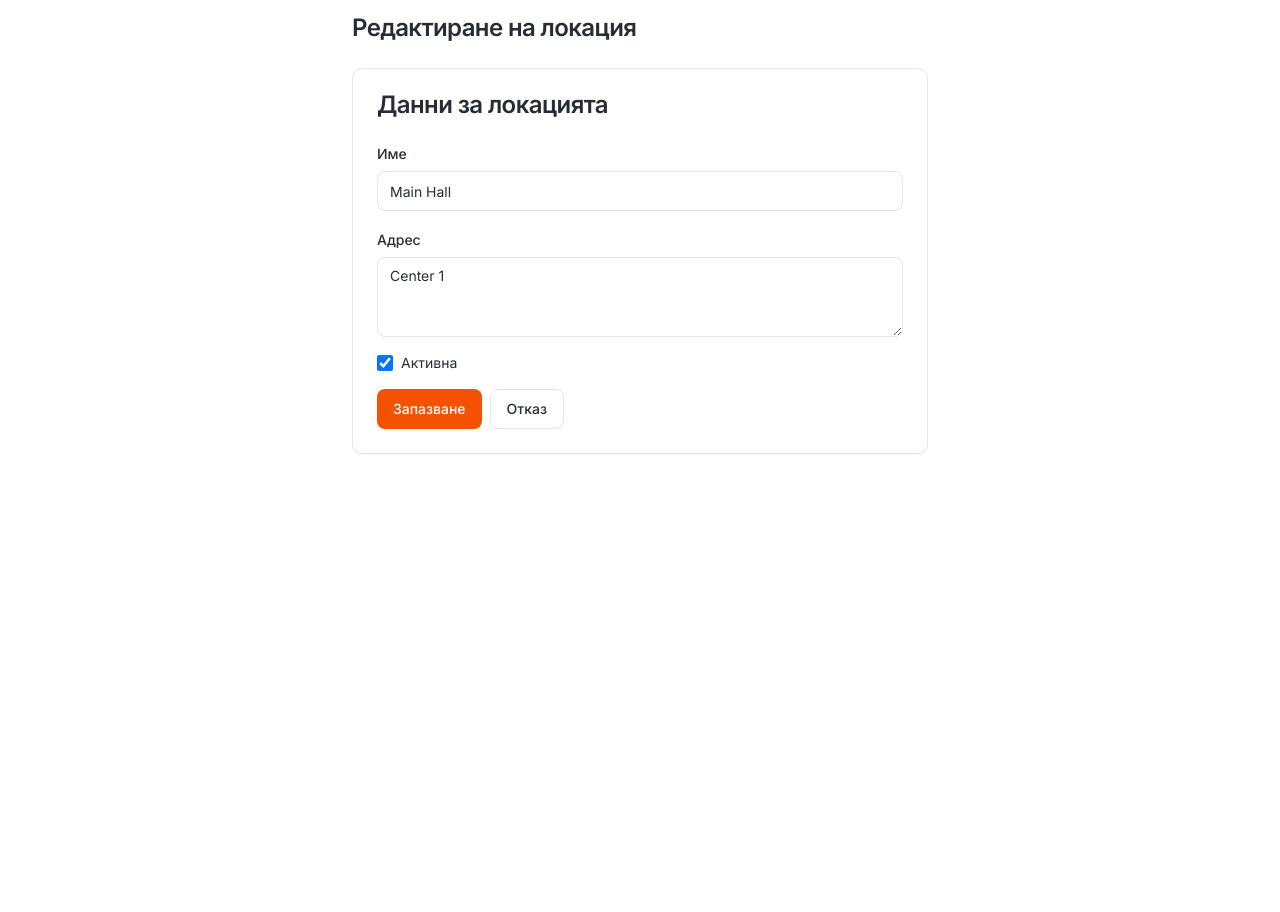
Test: location form pages › edit: prefills from the record and sends isActive on save
The image size is (1280, 912).
Replace the text in the field with id "name" with "Renamed Hall". click: (640,191)
box: [377, 171, 903, 211]
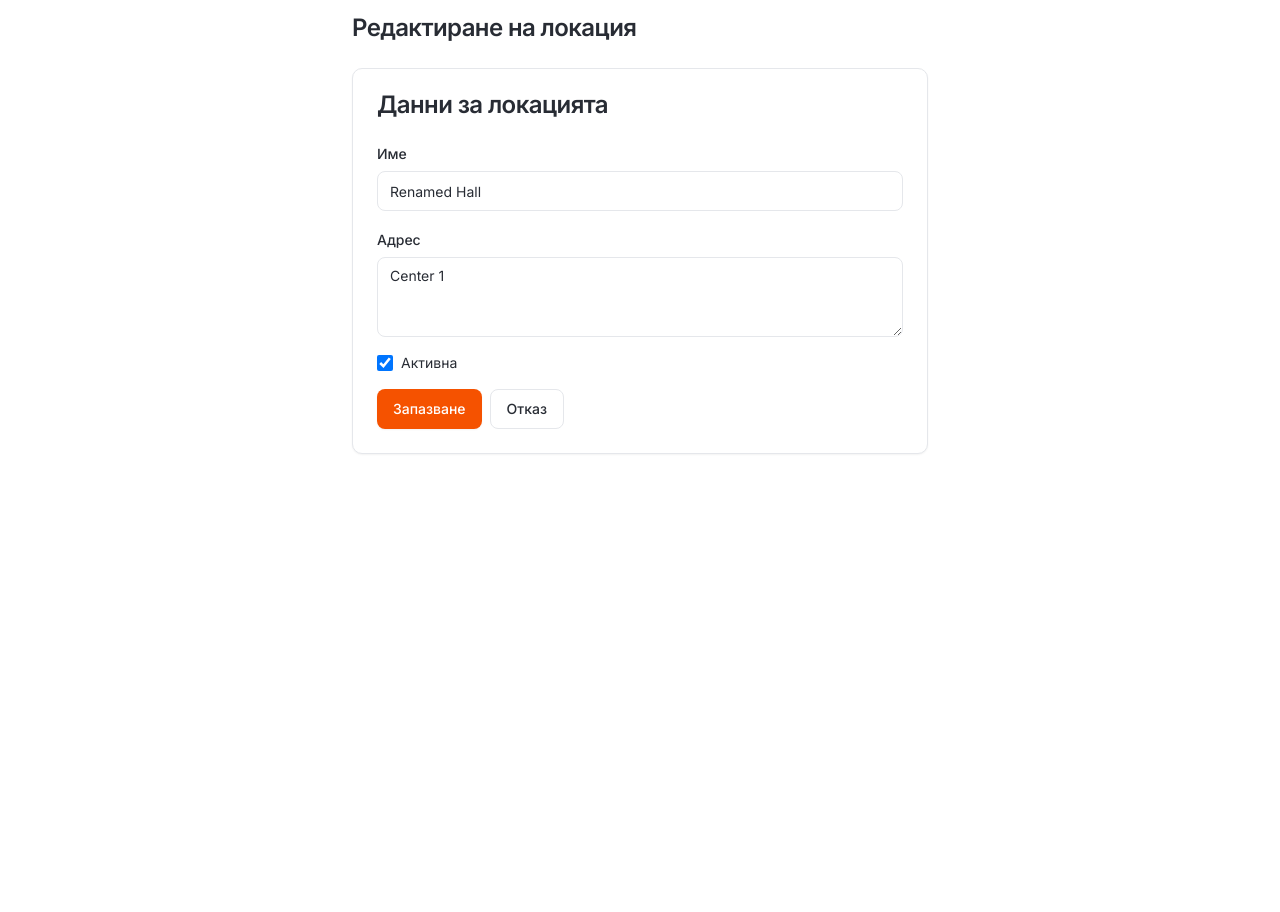
Click the checkbox labelled "Активна". click: (385,363)
box: [377, 355, 393, 371]
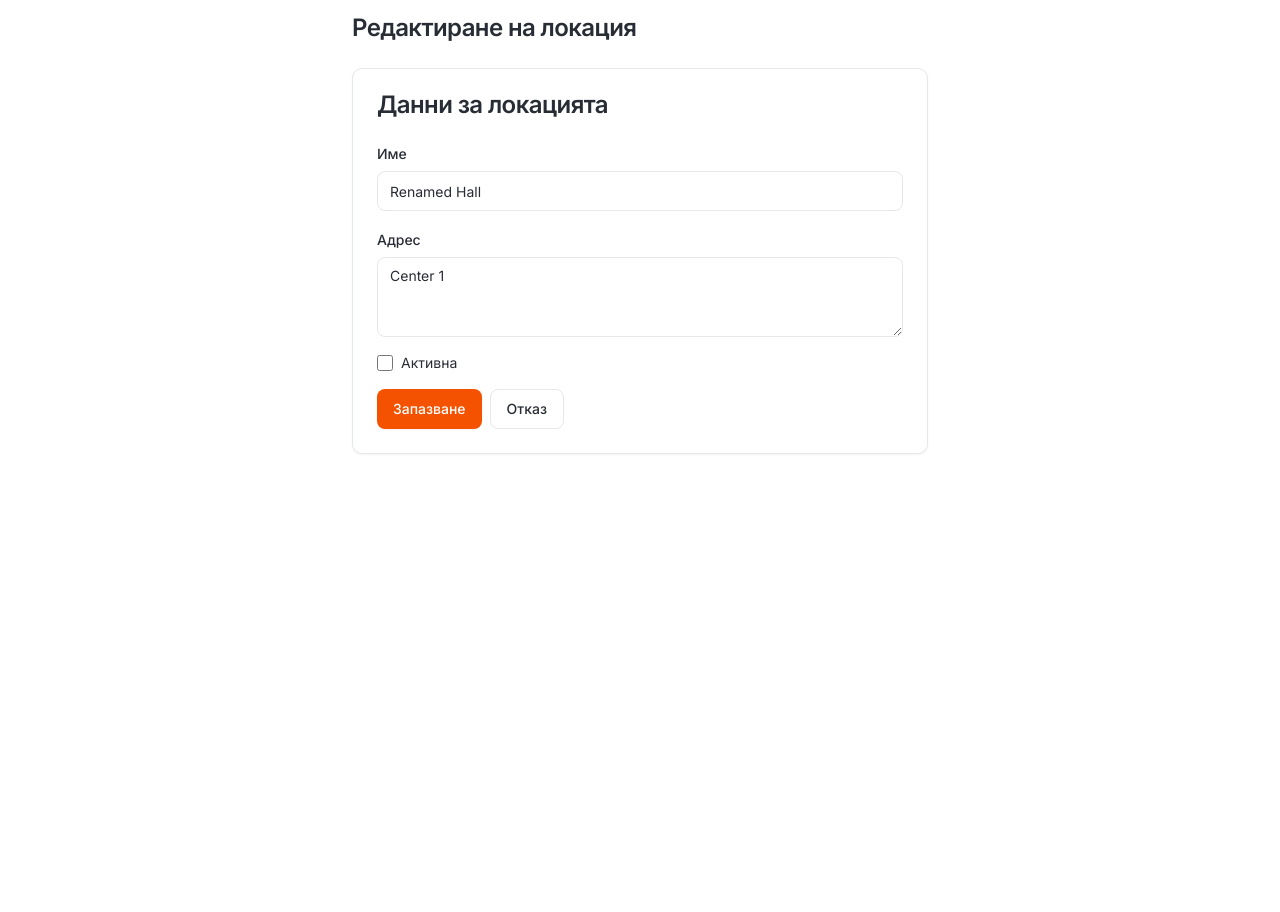
Click the submit button. click: (429,409)
box: [377, 389, 482, 429]
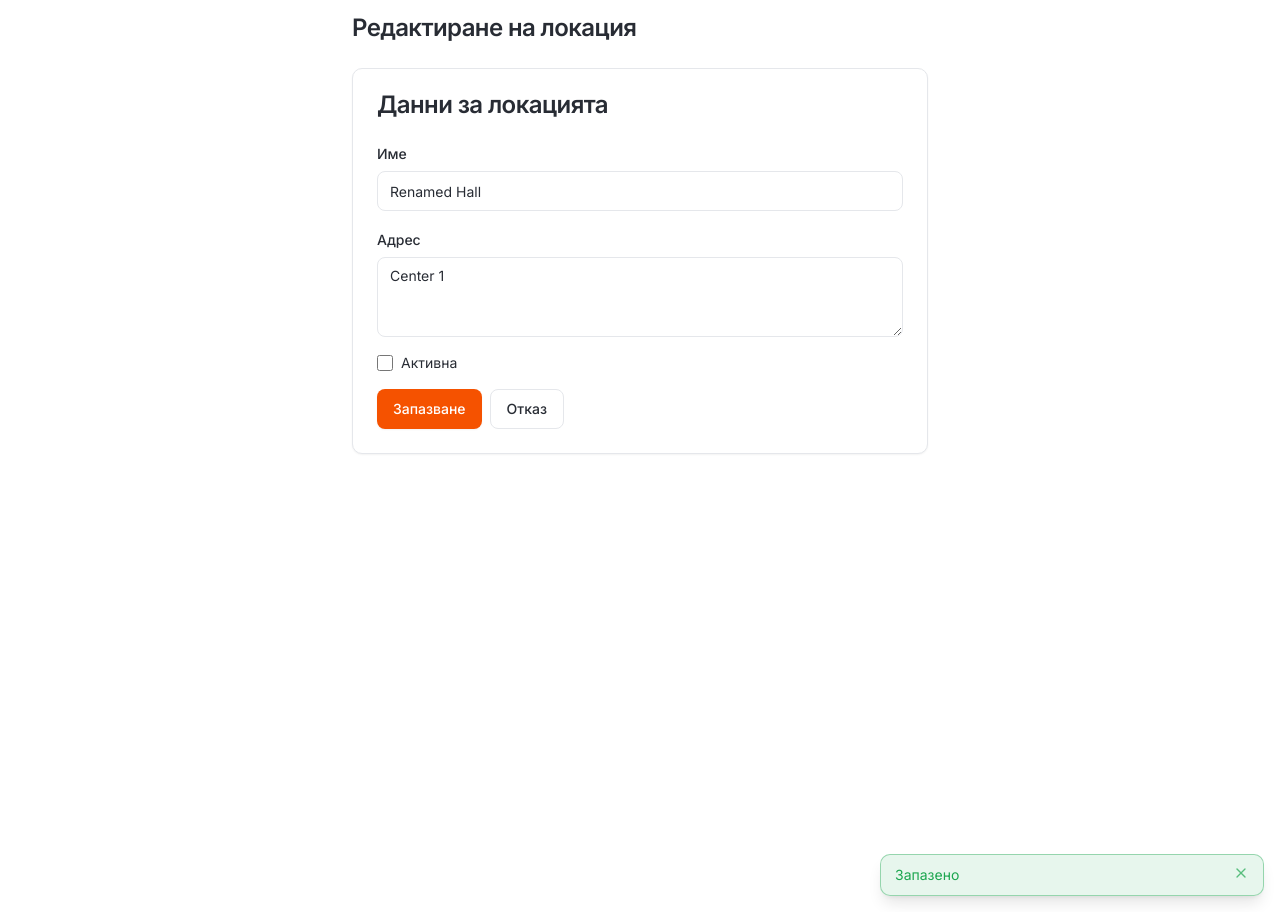
expect the text "Запазено" is shown: met, box [895, 866, 959, 883]
